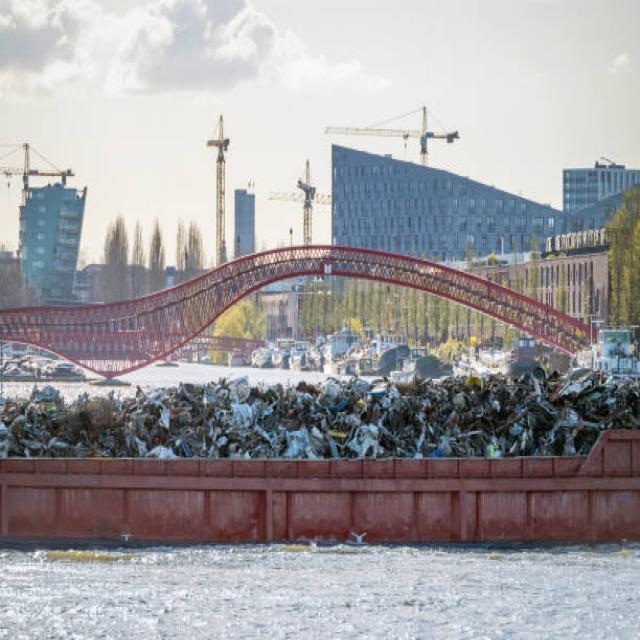metal: (4, 392, 633, 456), (5, 401, 479, 456), (497, 385, 581, 456)
